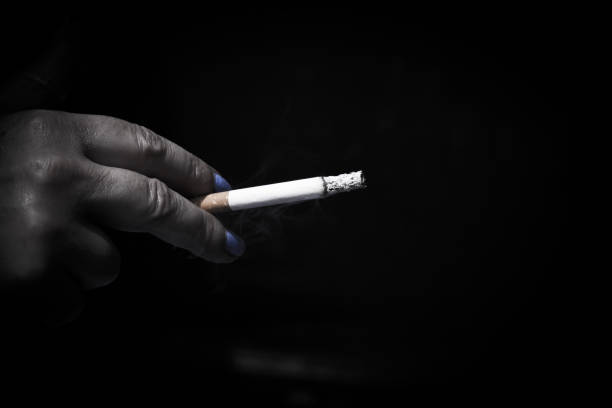cigarette: (192, 170, 366, 213)
